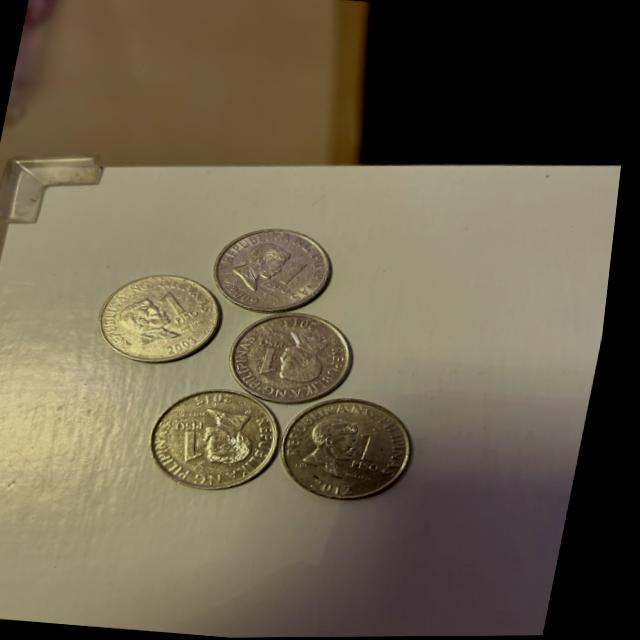1_Old_Front: (169, 412, 224, 470), (353, 429, 401, 480), (160, 291, 216, 329), (282, 254, 324, 295), (260, 336, 296, 369)
